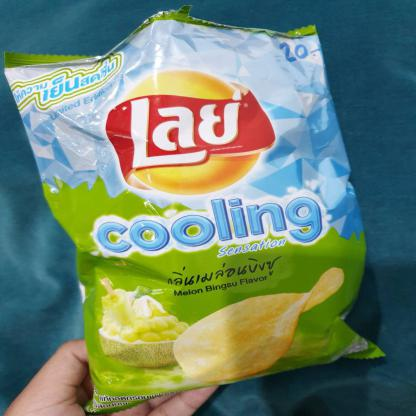potatochip: (0, 0, 395, 416)
